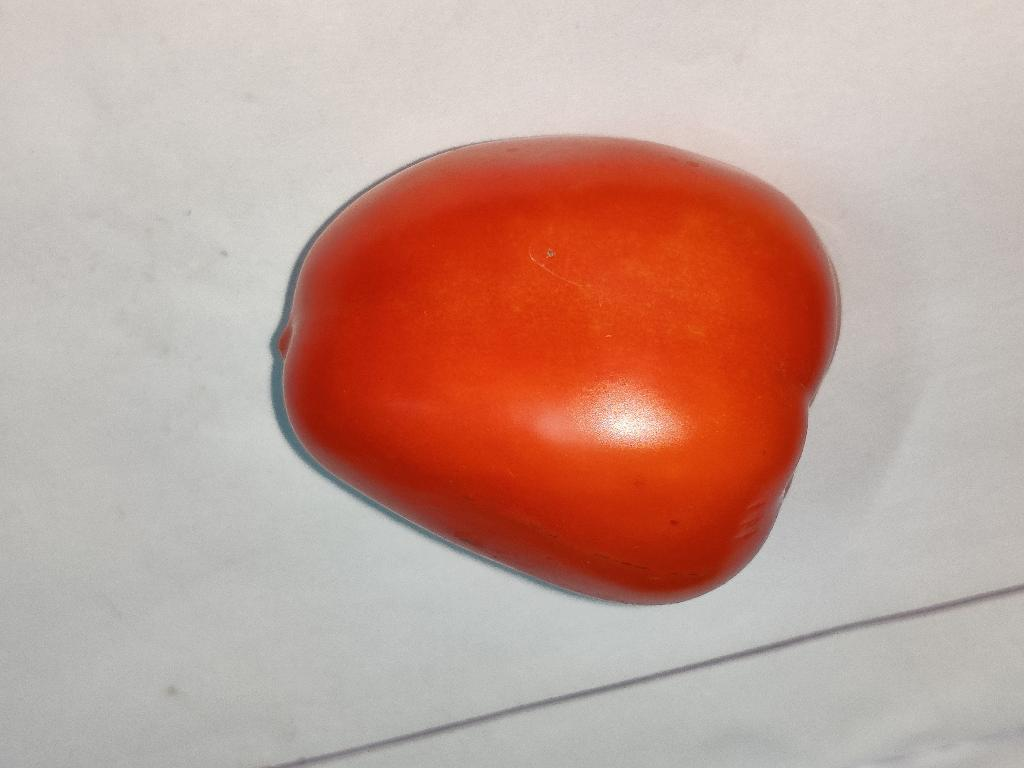tomato: (280, 137, 838, 604)
